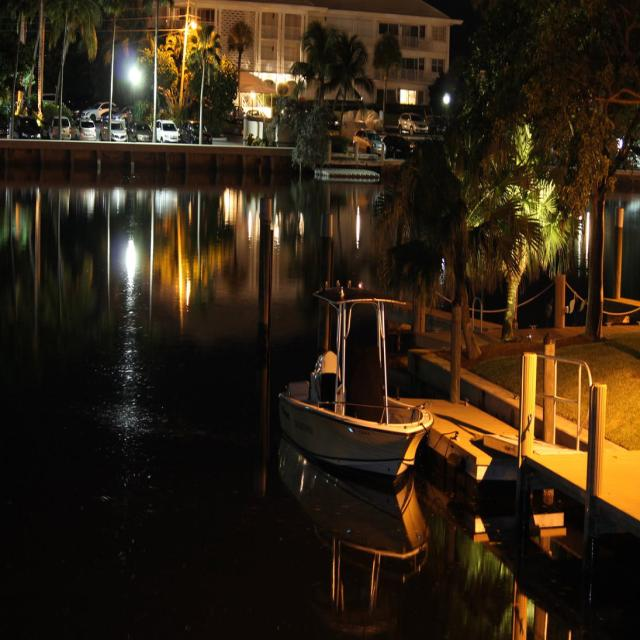Boat: (275, 287, 440, 502)
